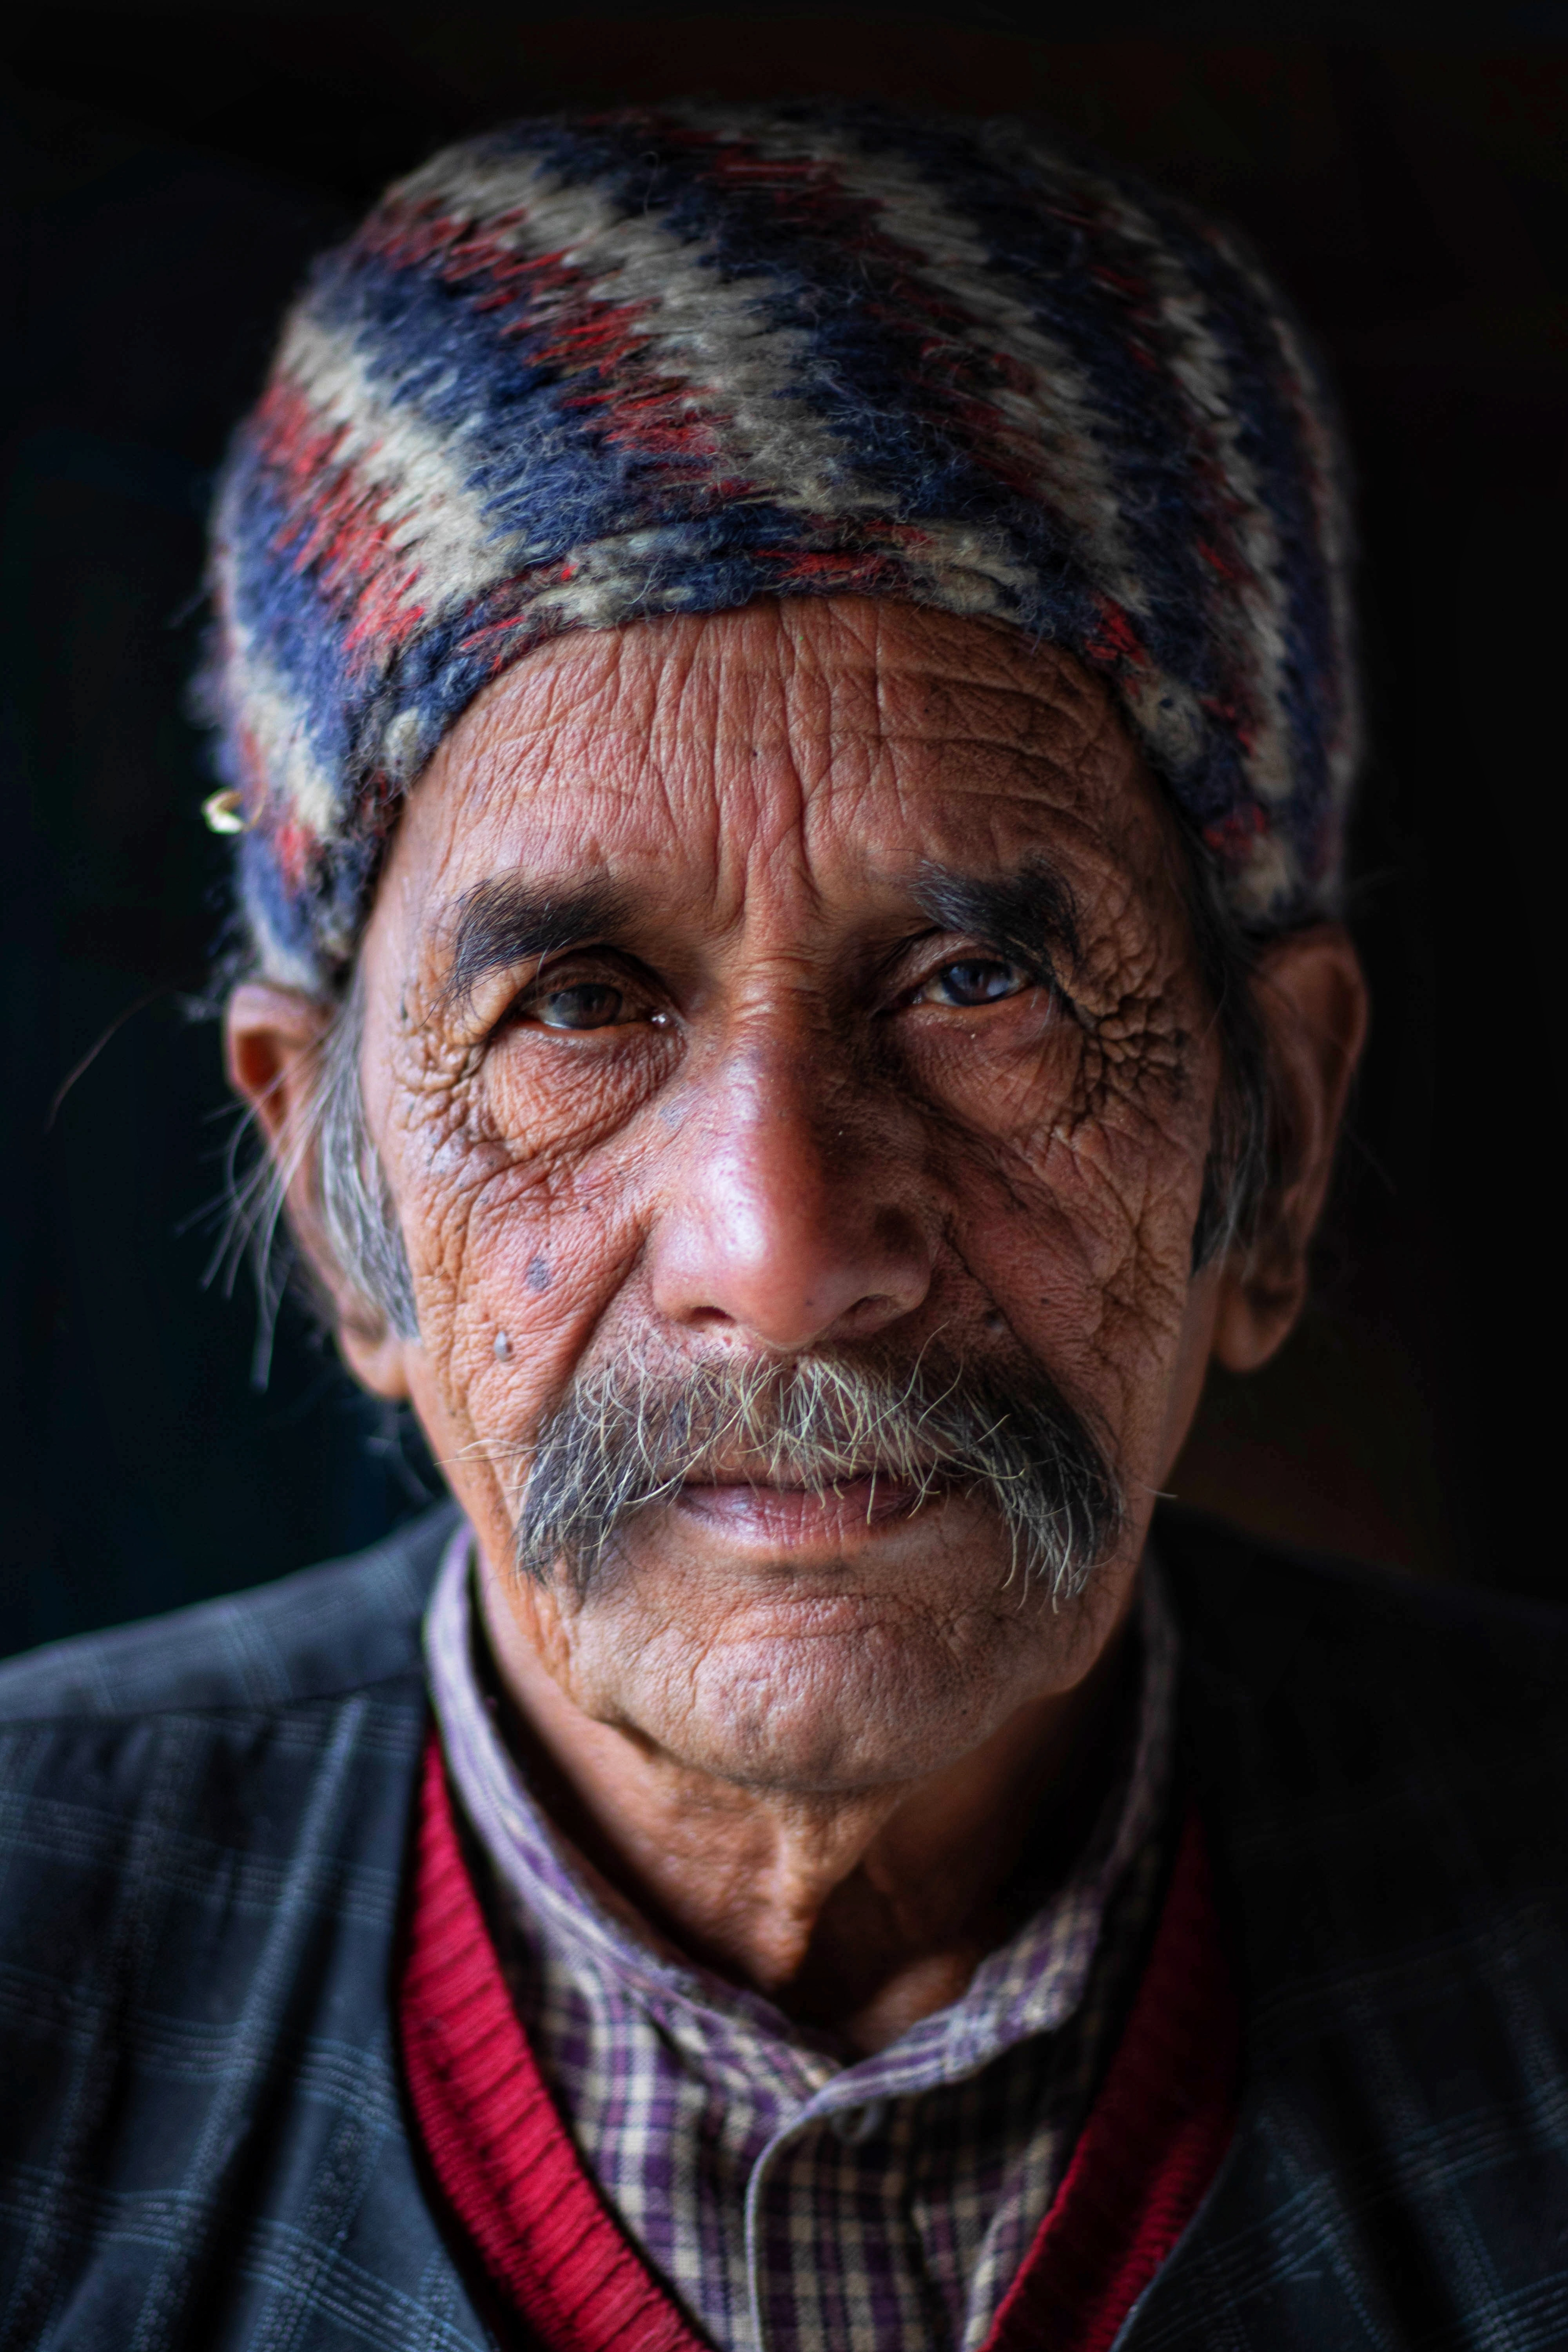DARK_SPOTS: (562, 663, 1069, 786), (1071, 1122, 1197, 1332), (1104, 982, 1192, 1106), (411, 1081, 514, 1176), (521, 1257, 558, 1295)
